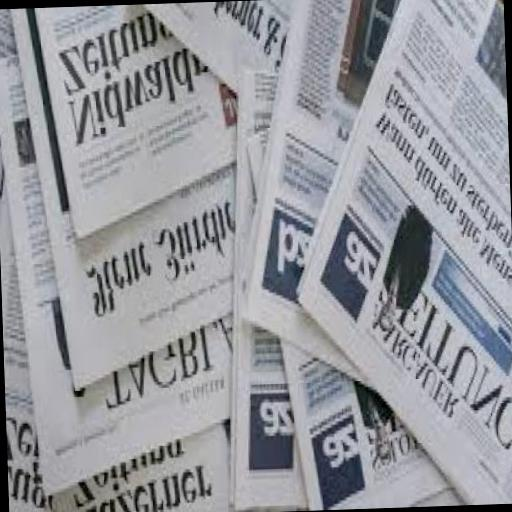paper: (0, 4, 236, 499), (0, 3, 229, 512), (284, 0, 512, 509), (8, 4, 238, 395), (229, 0, 414, 397), (208, 1, 313, 512), (31, 4, 241, 245), (276, 341, 454, 510), (122, 2, 296, 102)
